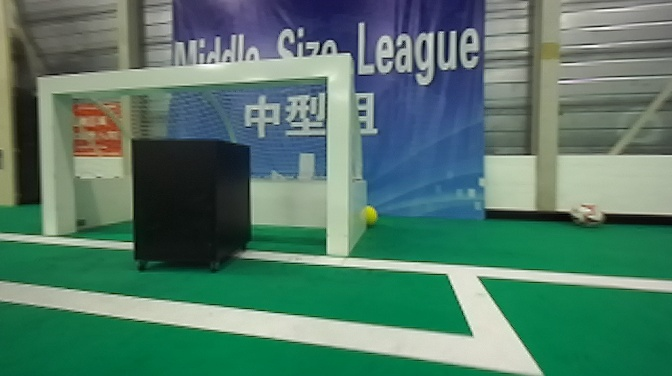ball: (359, 199, 378, 228)
goalpost: (33, 78, 85, 242), (322, 56, 355, 253)
